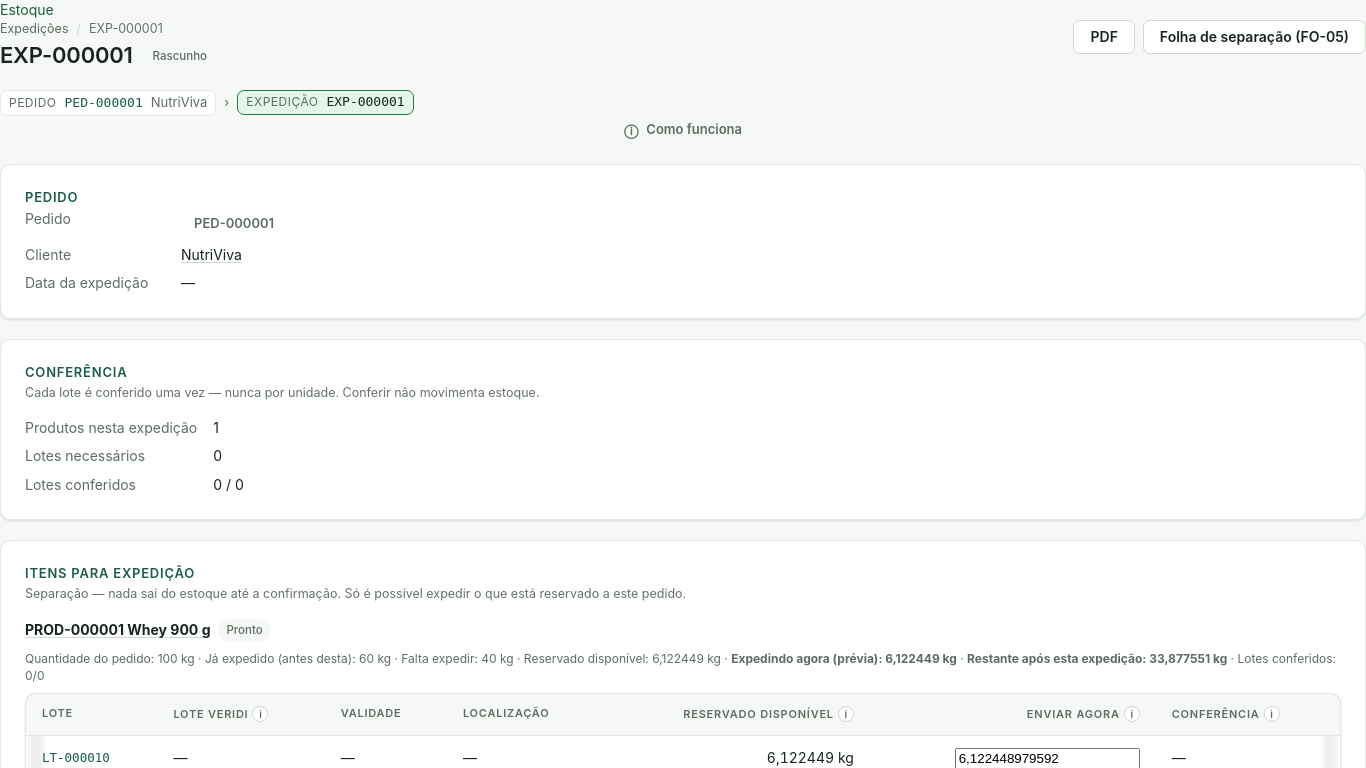
Test: Expedição — guarda de alterações não salvas › digitar o reservado exibido é o mesmo número gravado: não é alteração
Check: the heading "EXP-000001" is shown, box [0, 42, 133, 70]
Replace the text in the field named "Quantidade do lote LT-000010" with "6,122449" at [1047, 758], box [955, 748, 1140, 767]
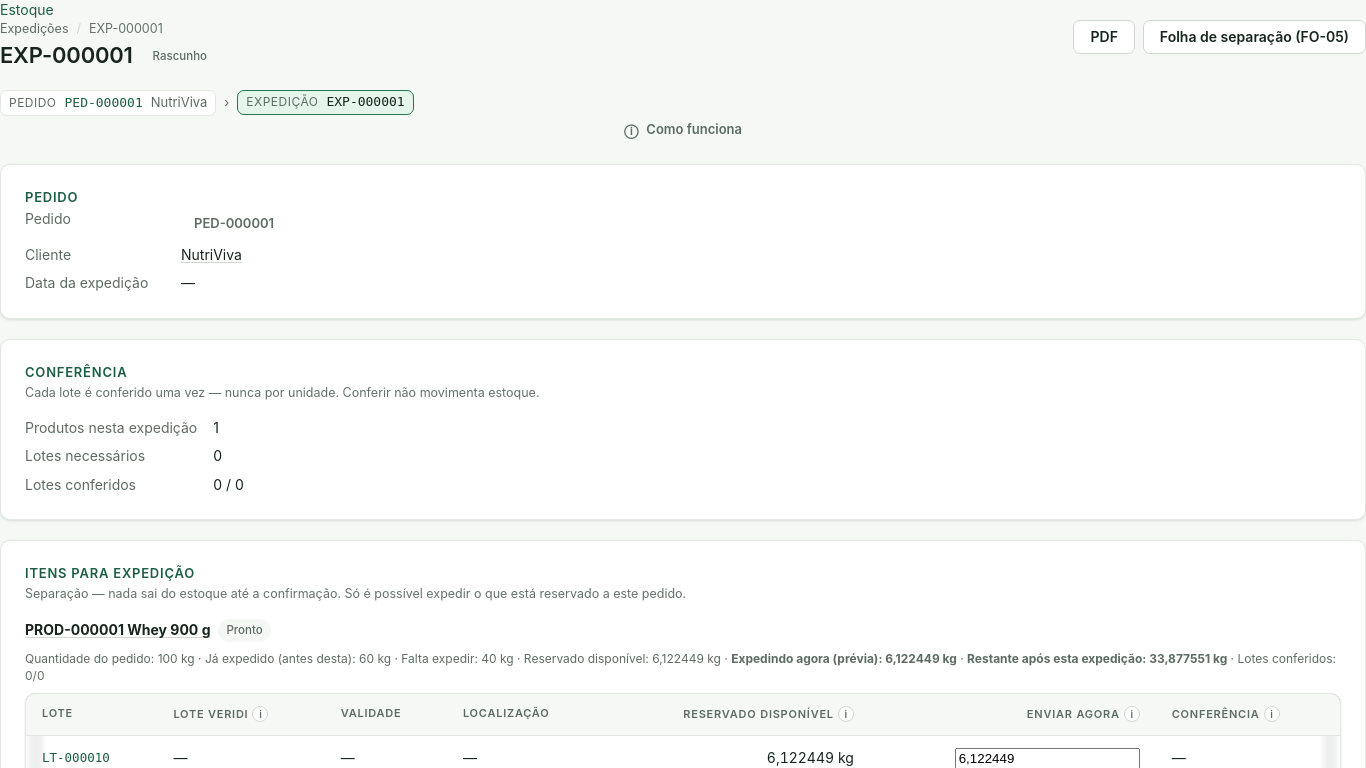
Replace the text in the field named "Quantidade do lote LT-000010" with "6" at [1047, 758], box [955, 748, 1140, 767]
(page scrolled)
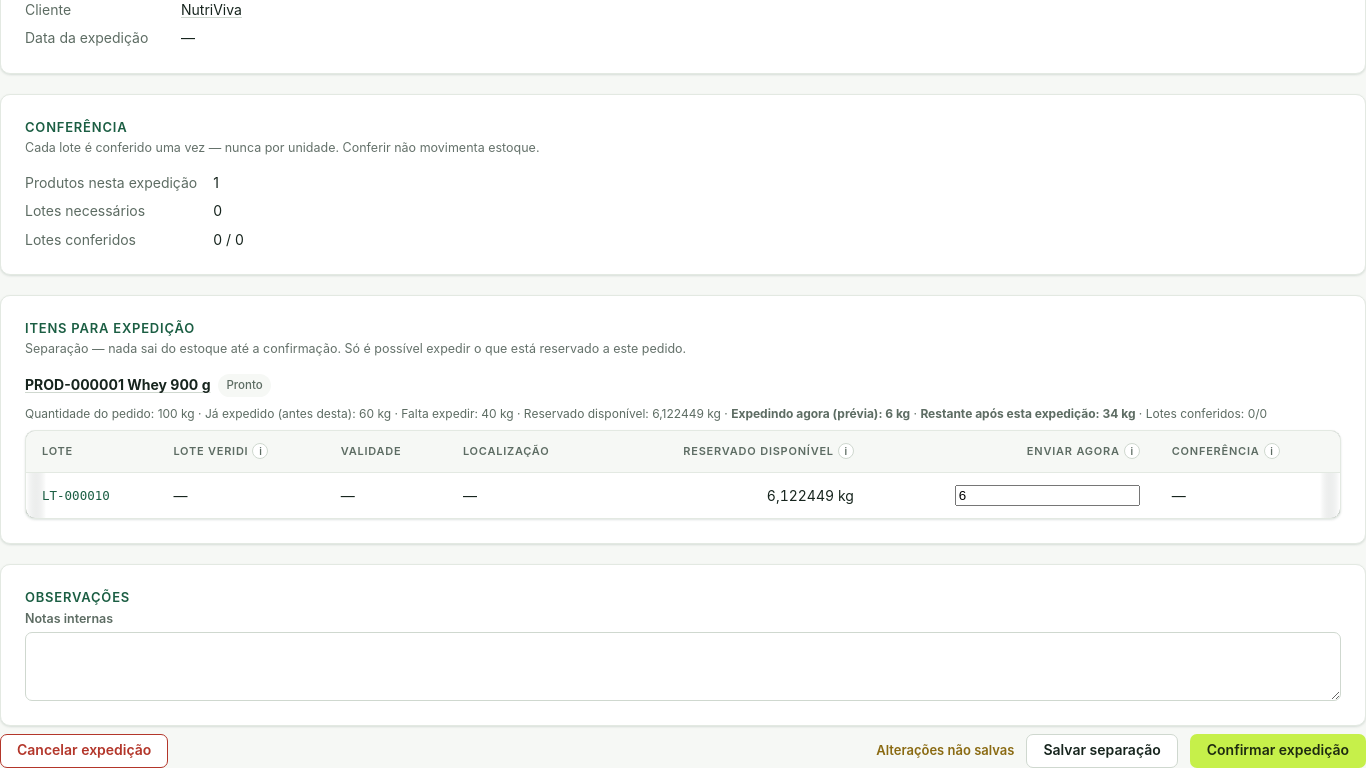
Check: the button "Salvar separação" is enabled, box [1026, 734, 1178, 767]
